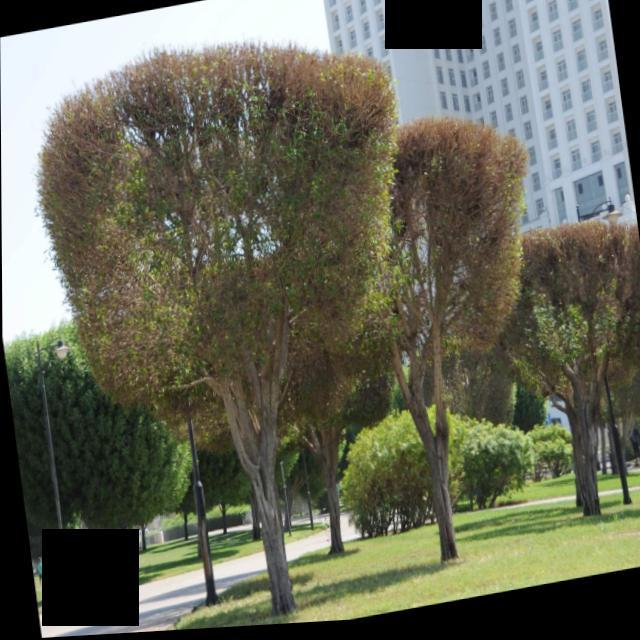Tree: (24, 18, 460, 640), (345, 105, 577, 578), (485, 219, 640, 533), (566, 229, 640, 514)
